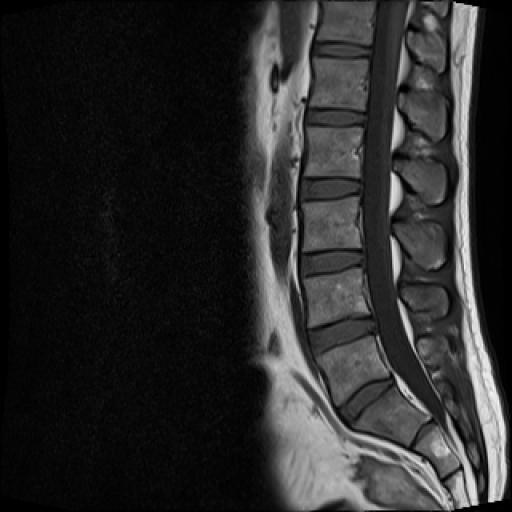L1: (310, 57, 369, 110)
L2: (304, 126, 364, 178)
L3: (302, 196, 362, 252)
L4: (304, 268, 370, 326)
L5: (317, 336, 390, 406)
S1: (353, 383, 432, 448)
